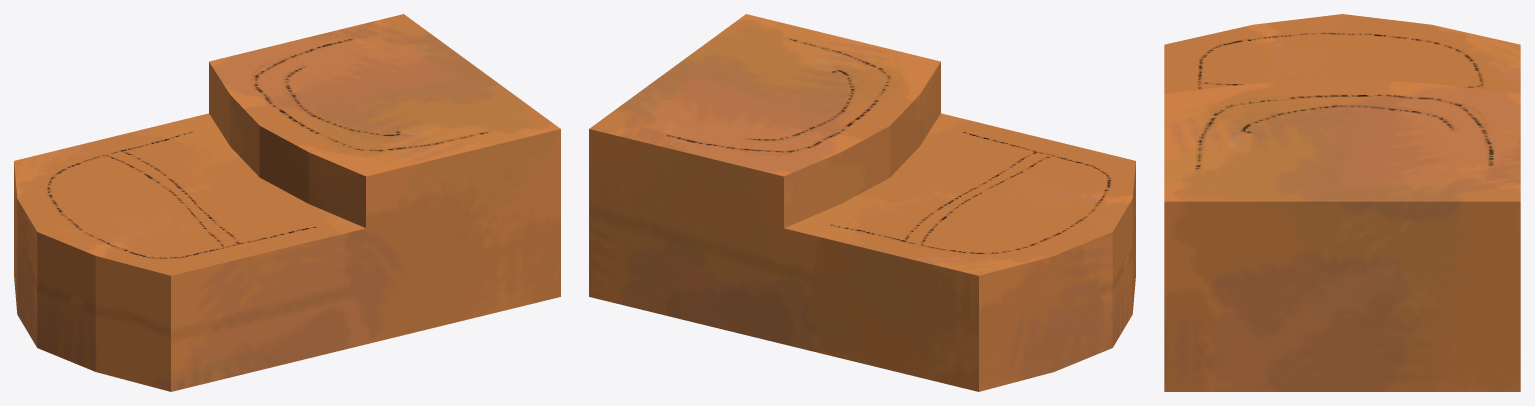
The model's file is mod_item_backpack.fbx.
The picture shows the model from 3 angles, left to right: view 1: azimuth 30°, elevation 25°; view 2: azimuth 150°, elevation 25°; view 3: azimuth 270°, elevation 25°; orthographic projection. The views are drawn at different scales.
Visible parts, largest first — view 1: mesh_backpack; view 2: mesh_backpack; view 3: mesh_backpack.
Part boxes in pixels (x1=…): mesh_backpack: x1=14, y1=14, x2=560, y2=391; mesh_backpack: x1=589, y1=14, x2=1135, y2=391; mesh_backpack: x1=1164, y1=14, x2=1520, y2=391.
Bounding box in the file's own units: 228 × 82.33 × 140.
